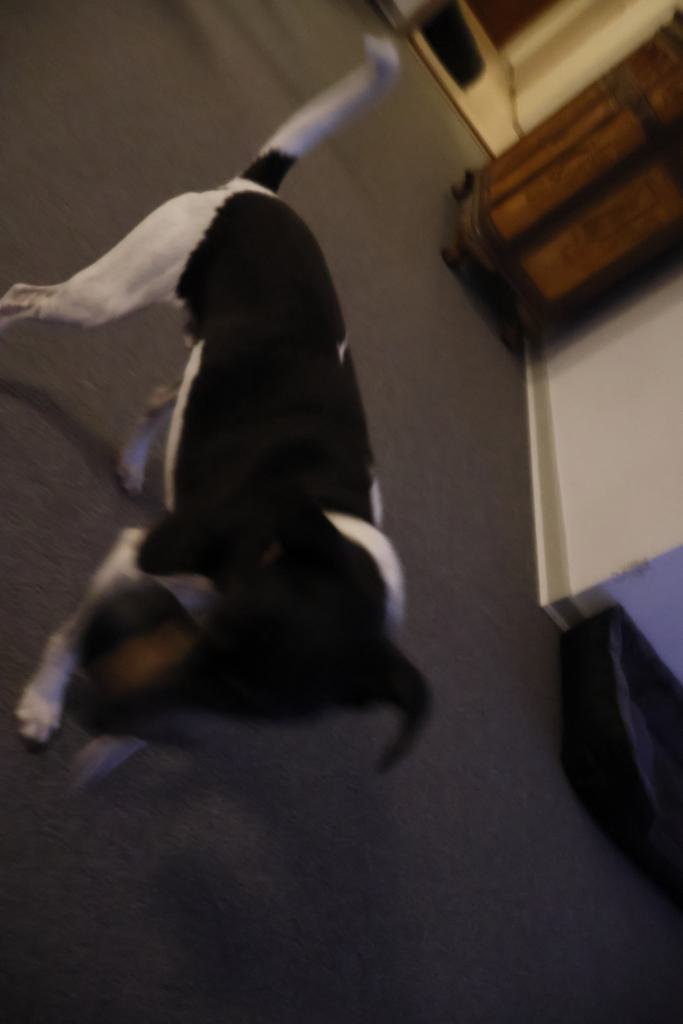Dog: (0, 26, 451, 800)
